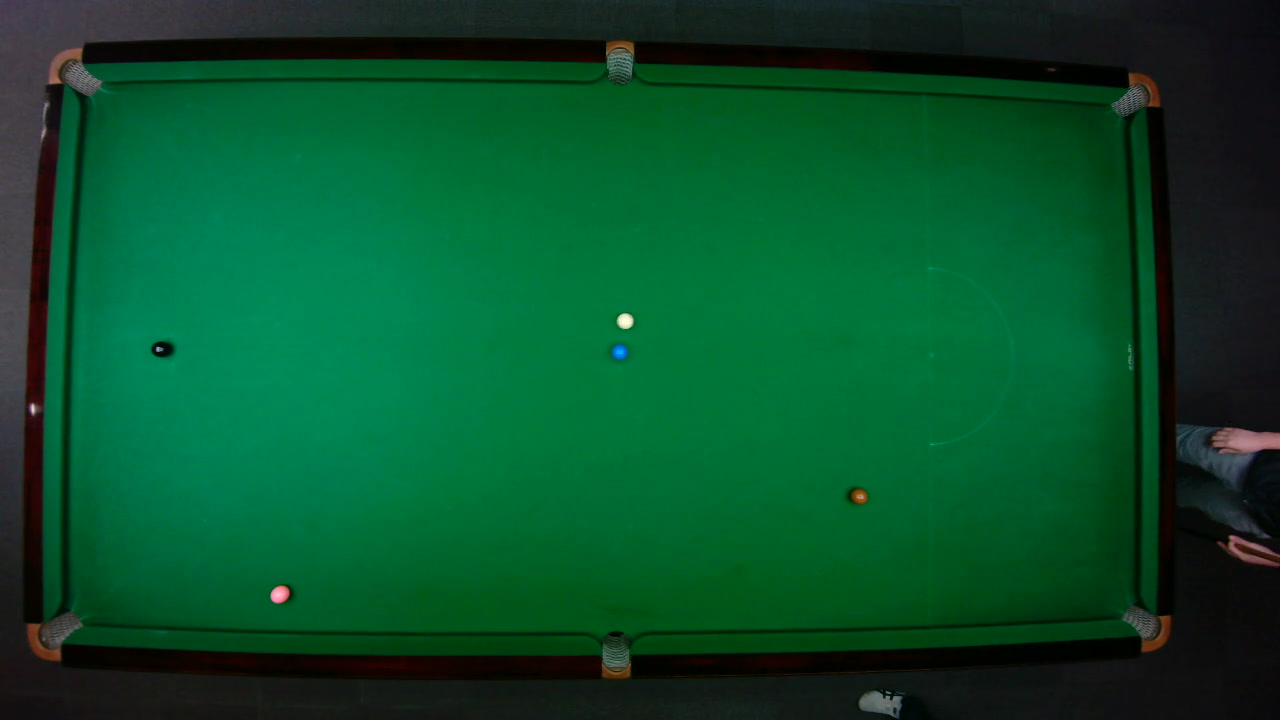bag: (25, 609, 83, 661), (46, 46, 102, 96), (1119, 603, 1171, 651), (1109, 71, 1161, 118), (601, 629, 630, 680), (605, 38, 633, 85)
black: (149, 339, 171, 357)
blue: (609, 342, 628, 360)
brown: (848, 486, 868, 504)
pink: (268, 583, 290, 604)
white: (614, 311, 634, 329)
zone: (926, 265, 1013, 445)
